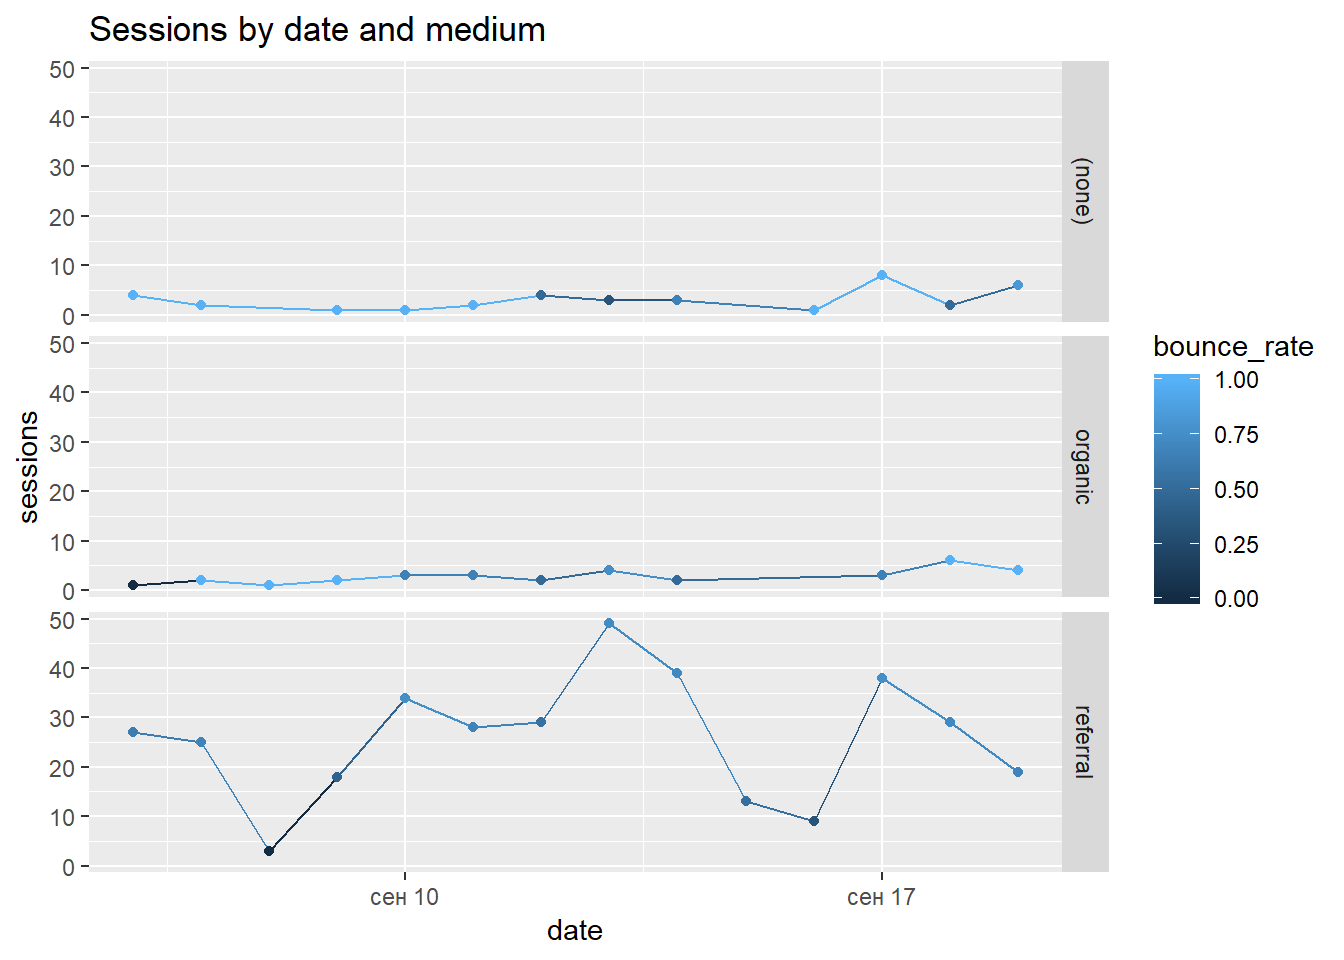

This screenshot's page, from the dashboard's own definition file:
{"tool":"powerbi","page":{"name":"Страница 1","canvas":[1280,720],"ordinal":0},"visuals":[{"type":"scriptVisual","fields":{"Values":["my_data.Id","my_data.user_id","Sum(my_data.Value)"]},"box":[9.7,19.3,945.3,367.6],"z":1}]}

Visuals, with their boxes on the page's 1280x720 design canvas (x1, y1, x2, y2). These are canvas units, not pixel positions in the 1344x960 screenshot, which may show the page scaled, cropped or inside an application window:
scriptVisual - my_data.Id x my_data.user_id: region(10, 19, 955, 387)
